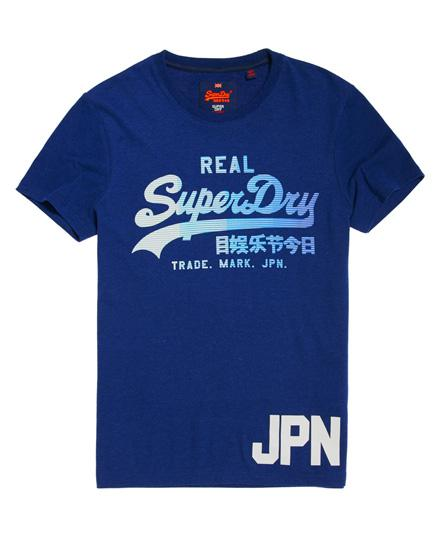teeshirt: (15, 42, 430, 506)
